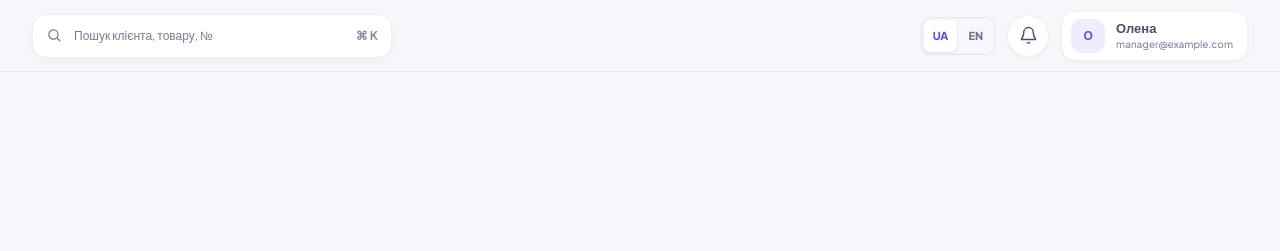
AppHeader › hides team from managers and closes with Escape
This screenshot has width=1280, height=251.
Expected: the button named "Сповіщення" is shown, [1007, 14, 1049, 56]
Click the button with aria-label "Меню профілю".
click(1155, 36)  # box [1061, 10, 1248, 60]
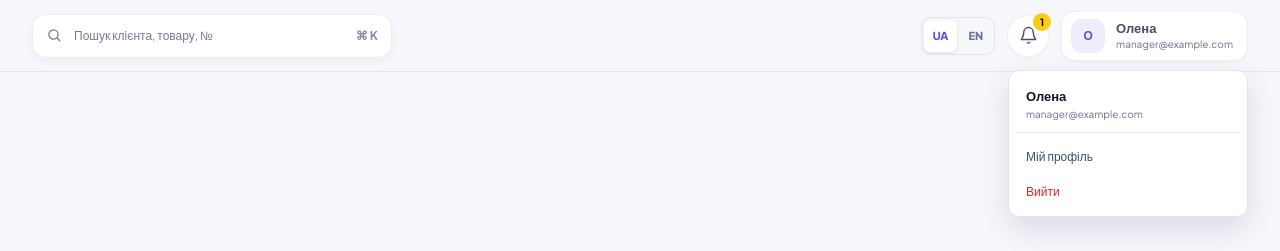
Expected: the text named "Ініціал О" reads "О", [1083, 28, 1093, 43]
Press Escape
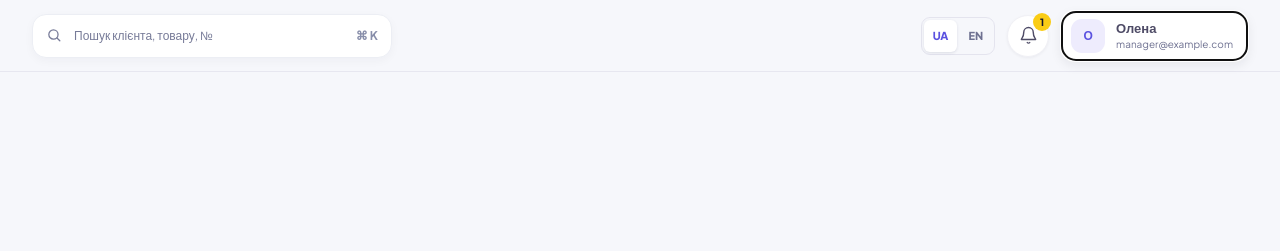
Expected: the menu is gone
